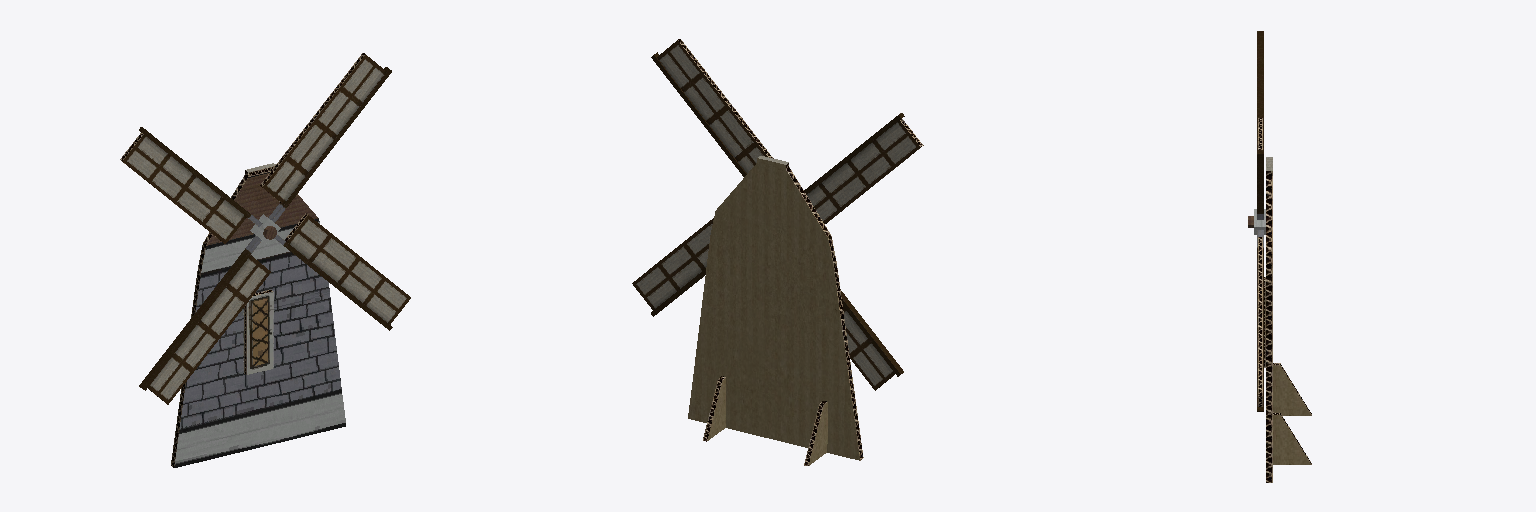
The picture shows the model from 3 angles: view 1: azimuth 30°, elevation 25°; view 2: azimuth 150°, elevation 25°; view 3: azimuth 270°, elevation 25°; orthographic projection.
Parts seen in each view (by area): view 1: submesh_0; view 2: cardboard, submesh_0; view 3: submesh_0, cardboard.
Boxes of the visible parts, x1=… form: submesh_0: x1=120, y1=53, x2=410, y2=467; cardboard: x1=688, y1=158, x2=859, y2=465; submesh_0: x1=632, y1=39, x2=923, y2=465; submesh_0: x1=1248, y1=31, x2=1311, y2=482; cardboard: x1=1273, y1=365, x2=1311, y2=464.
Size of the model in its own units: 16.77 by 20.57 by 3.19.
2 materials, 2 textured.